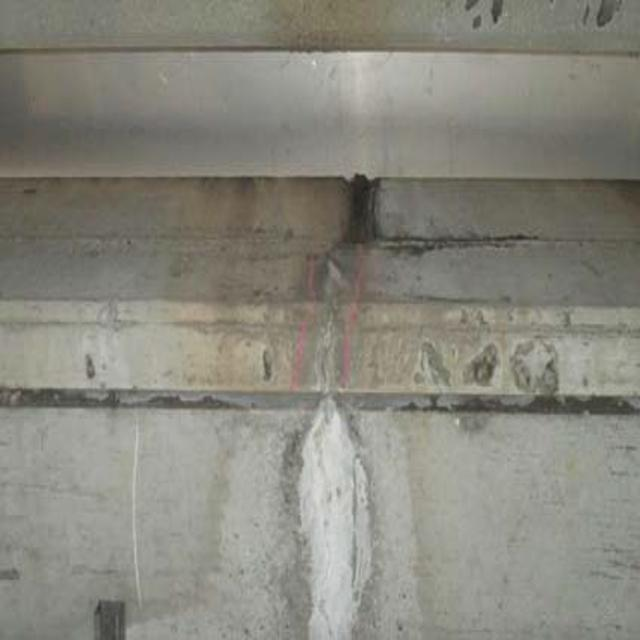freelime: (287, 383, 366, 640)
